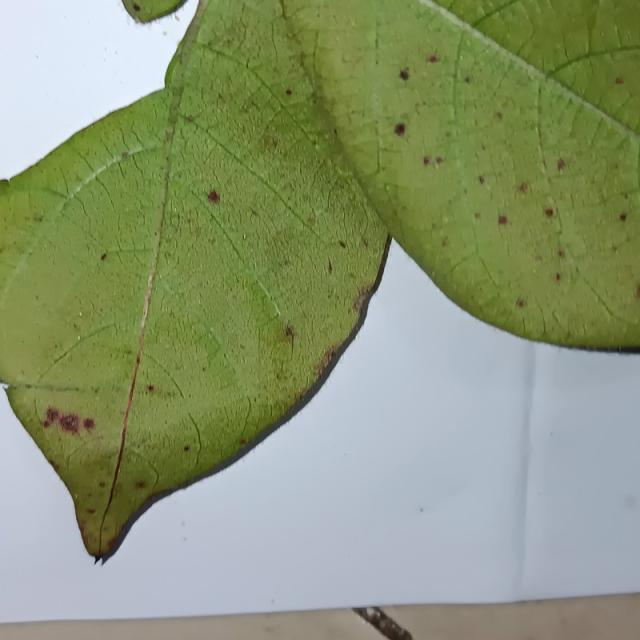Bacterial_Blight: (317, 341, 344, 376), (202, 183, 230, 206), (59, 413, 80, 433), (356, 284, 373, 307), (314, 356, 330, 379), (44, 407, 61, 426), (263, 136, 278, 151), (423, 155, 441, 167), (285, 325, 295, 345), (394, 122, 406, 136), (398, 67, 410, 80), (83, 418, 94, 430), (518, 182, 528, 194), (42, 415, 51, 428), (498, 214, 508, 225), (557, 158, 565, 170), (327, 258, 333, 274), (428, 55, 439, 63), (135, 481, 145, 489), (545, 208, 553, 217), (517, 299, 525, 308), (187, 114, 195, 123), (132, 3, 141, 11), (441, 238, 448, 248), (147, 384, 155, 392), (121, 151, 129, 159), (495, 112, 503, 120), (35, 215, 43, 223), (423, 156, 430, 165), (100, 252, 107, 261), (478, 176, 485, 185), (615, 77, 624, 84), (86, 508, 96, 514), (285, 88, 292, 96), (339, 241, 346, 249), (619, 213, 626, 221), (98, 481, 106, 488), (474, 212, 481, 219), (239, 439, 246, 446), (558, 250, 564, 258), (555, 273, 561, 281), (183, 446, 190, 452), (464, 76, 470, 83)
Cotton: (0, 0, 639, 558)
